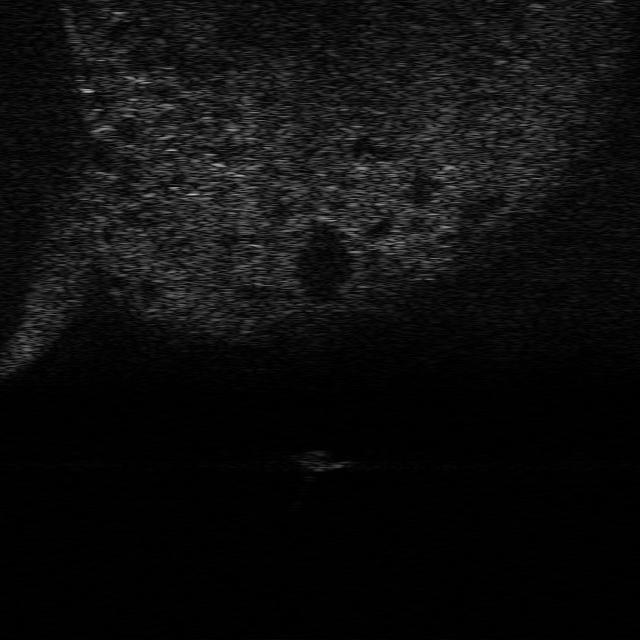cube: (294, 447, 352, 471)
